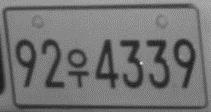2: (40, 37, 65, 88)
3: (145, 38, 170, 88), (119, 39, 144, 88)
4: (93, 38, 119, 89)
9: (13, 39, 37, 88), (173, 38, 196, 89)
우: (66, 48, 90, 88)
